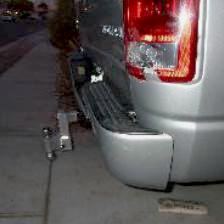tail_lamp: (121, 38, 181, 85)
